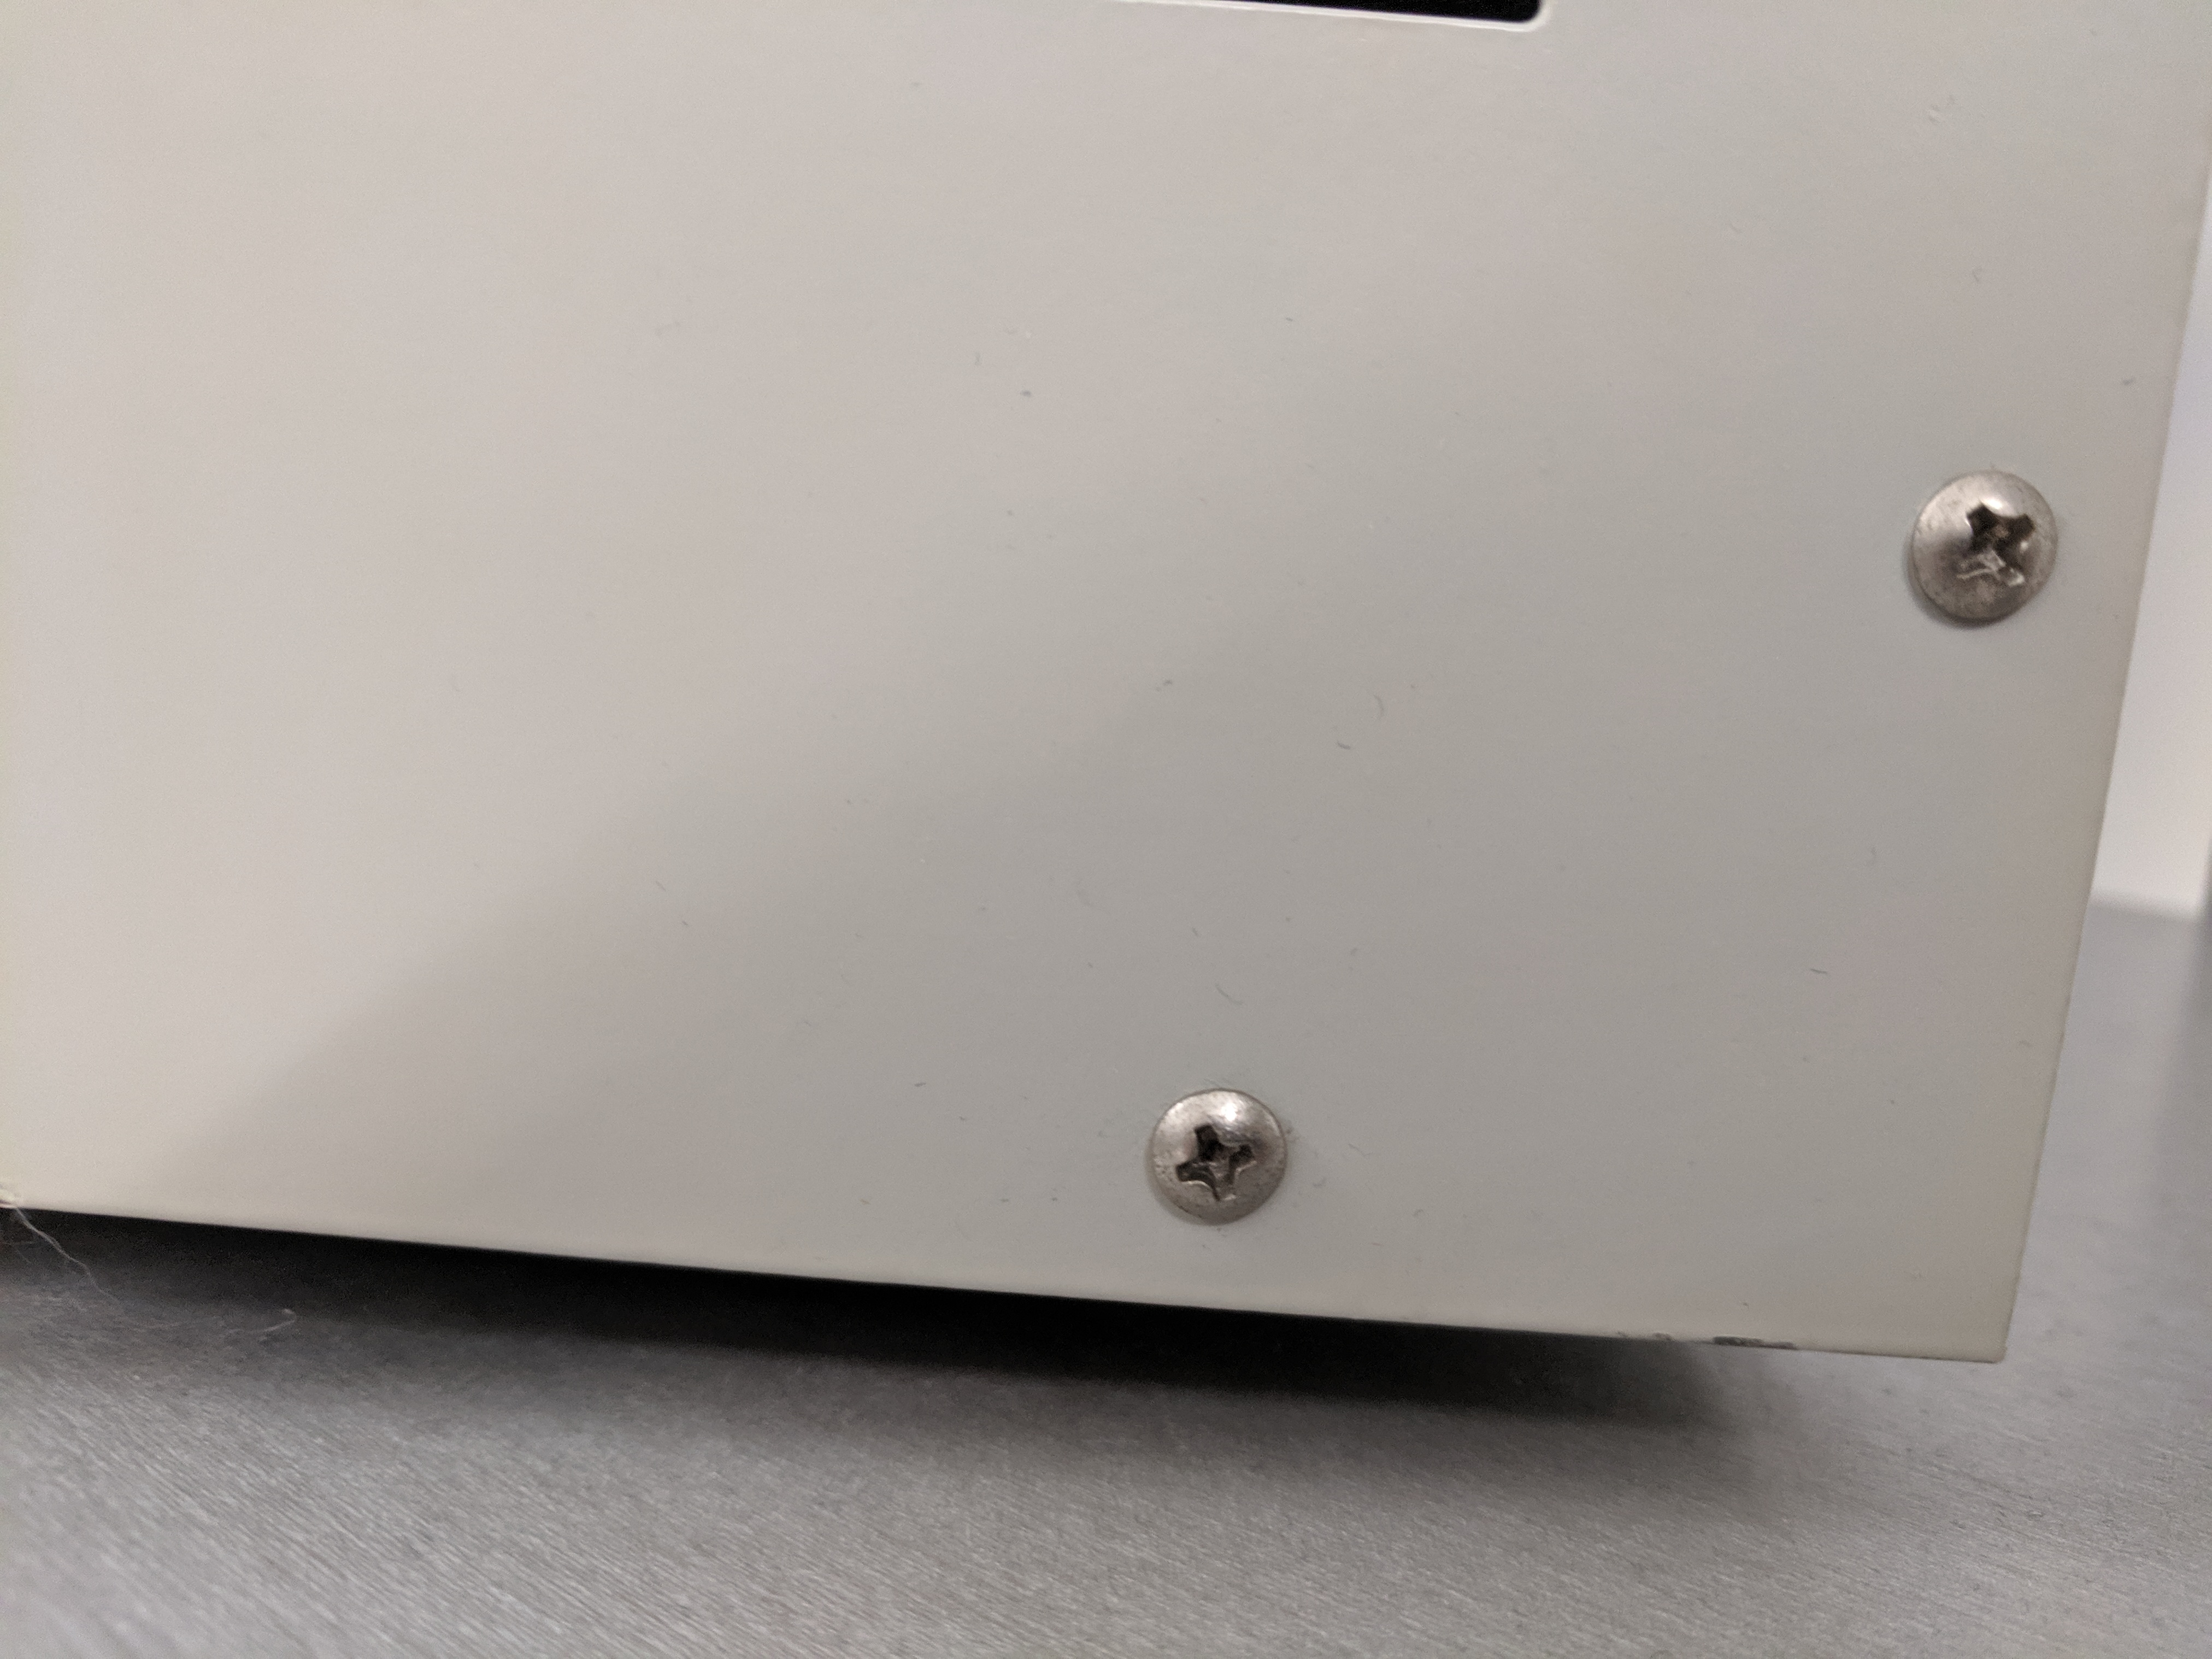cross_recessed_screw: (179, 741, 286, 847), (1959, 758, 2057, 861), (784, 615, 876, 714)
